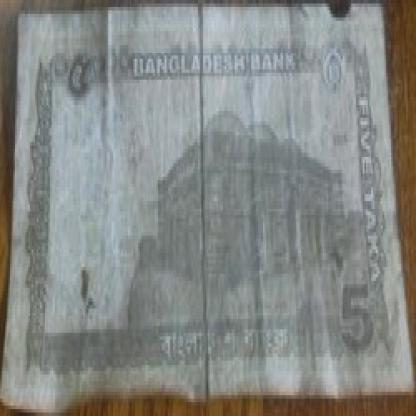Five Taka: (320, 270, 386, 378), (56, 38, 102, 101)
